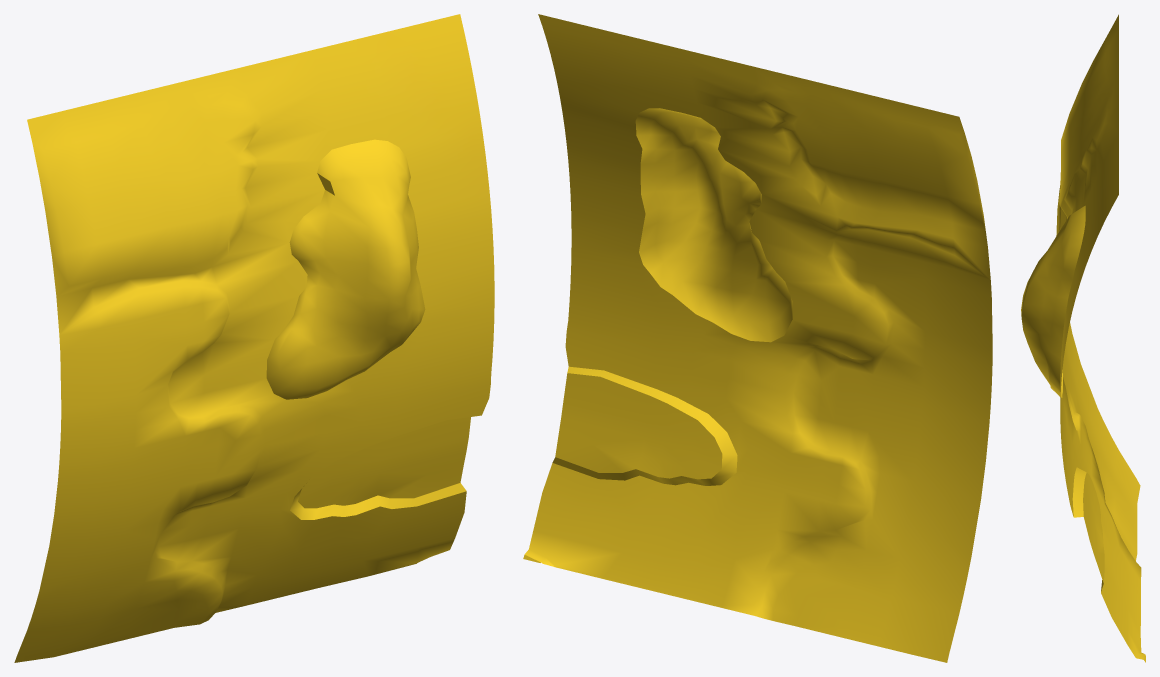
Rendered from seg0.fbx.
3 renders of one model, left to right at view 1: azimuth 30°, elevation 25°; view 2: azimuth 150°, elevation 25°; view 3: azimuth 270°, elevation 25°, orthographic. The views are drawn at different scales.
Visible parts, largest first — view 1: seg004; view 2: seg004; view 3: seg004.
Boxes of the visible parts, x1,y1,x2,y2 form: seg004: [14, 14, 494, 662]; seg004: [523, 14, 992, 662]; seg004: [1021, 14, 1145, 662].
Bounding box in the file's own units: 83.73 × 103 × 24.44.
